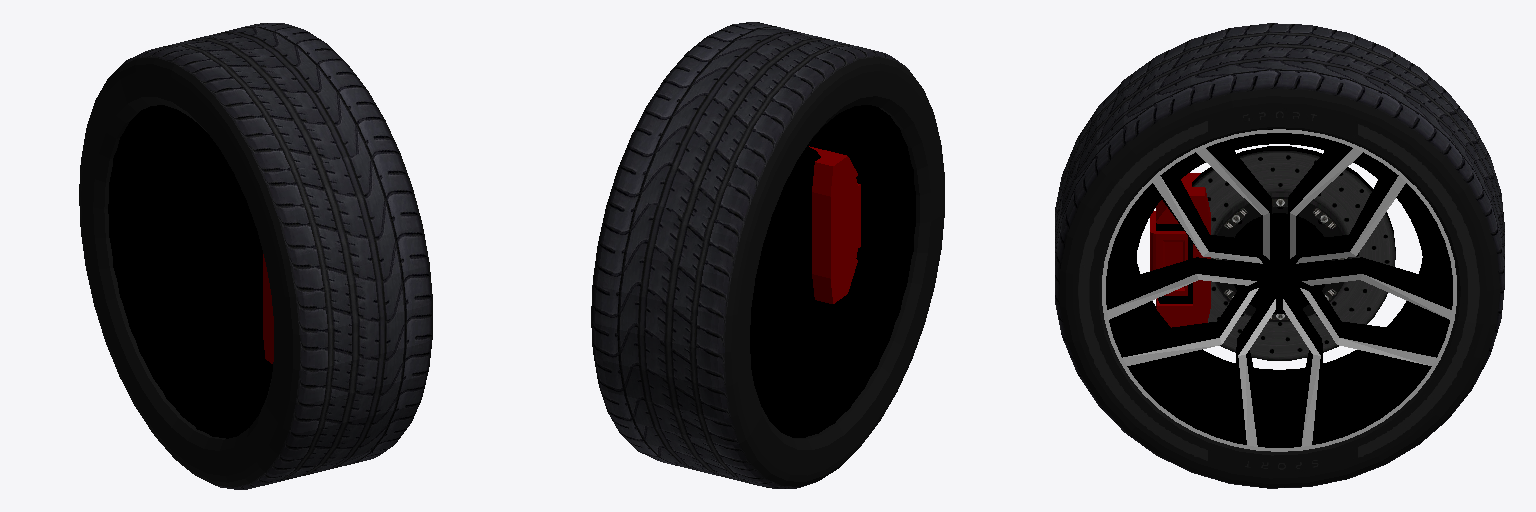
3 renders of one model, left to right at view 1: azimuth 30°, elevation 25°; view 2: azimuth 150°, elevation 25°; view 3: azimuth 270°, elevation 25°, orthographic.
Visible parts, largest first — view 1: tire_FL.004, rim_Cylinder.003, Brake_Cube.005; view 2: tire_FL.004, rim_Cylinder.003, Brake_Cube.005; view 3: rim_Cylinder.003, tire_FL.004, Brake_Cube.005.
Part boxes in pixels (left/top/right/bottom): tire_FL.004: left=79, top=23, right=432, bottom=489; rim_Cylinder.003: left=108, top=105, right=272, bottom=438; Brake_Cube.005: left=263, top=254, right=273, bottom=363; tire_FL.004: left=591, top=22, right=944, bottom=488; rim_Cylinder.003: left=750, top=105, right=915, bottom=437; Brake_Cube.005: left=809, top=146, right=860, bottom=303; rim_Cylinder.003: left=1102, top=129, right=1456, bottom=451; tire_FL.004: left=1055, top=23, right=1504, bottom=488; Brake_Cube.005: left=1150, top=173, right=1210, bottom=327.
Size of the model in its own units: 0.1427 by 0.3855 by 0.3851.
Materials: 6 (2 with a texture image).